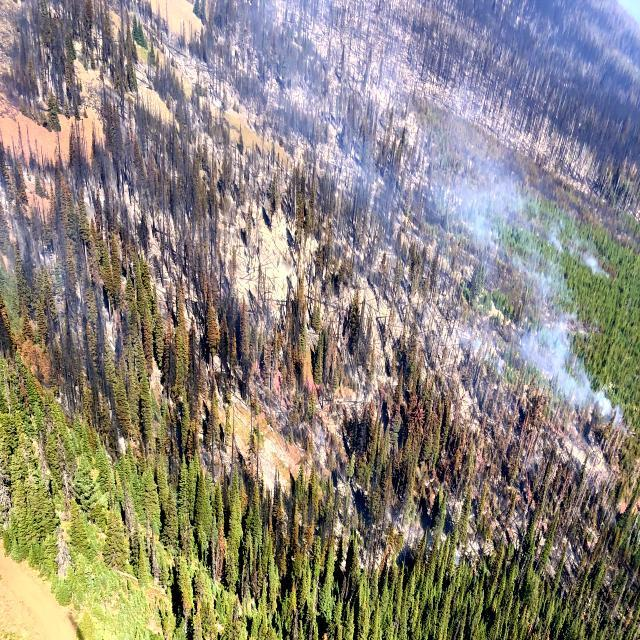Smoke: (431, 100, 593, 408)
